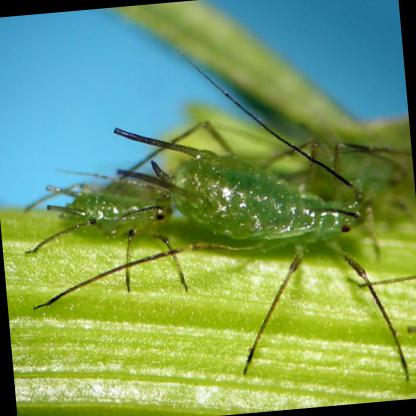uroleucon compositae: (115, 124, 370, 283)
